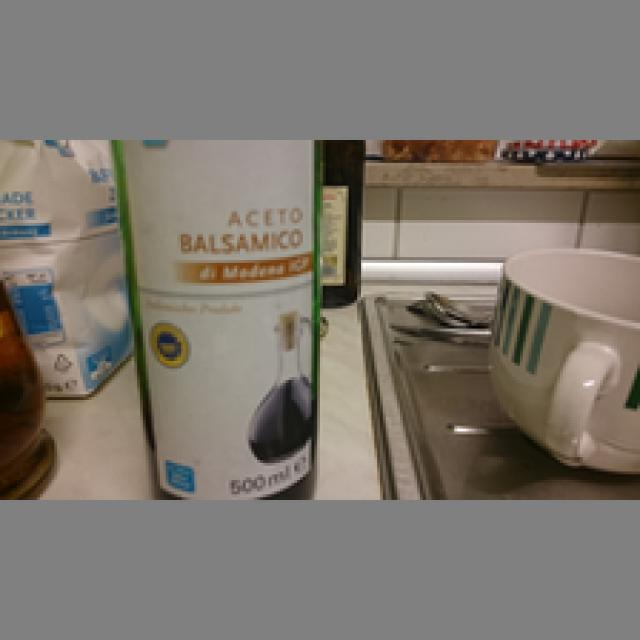groceries: (105, 132, 328, 494)
